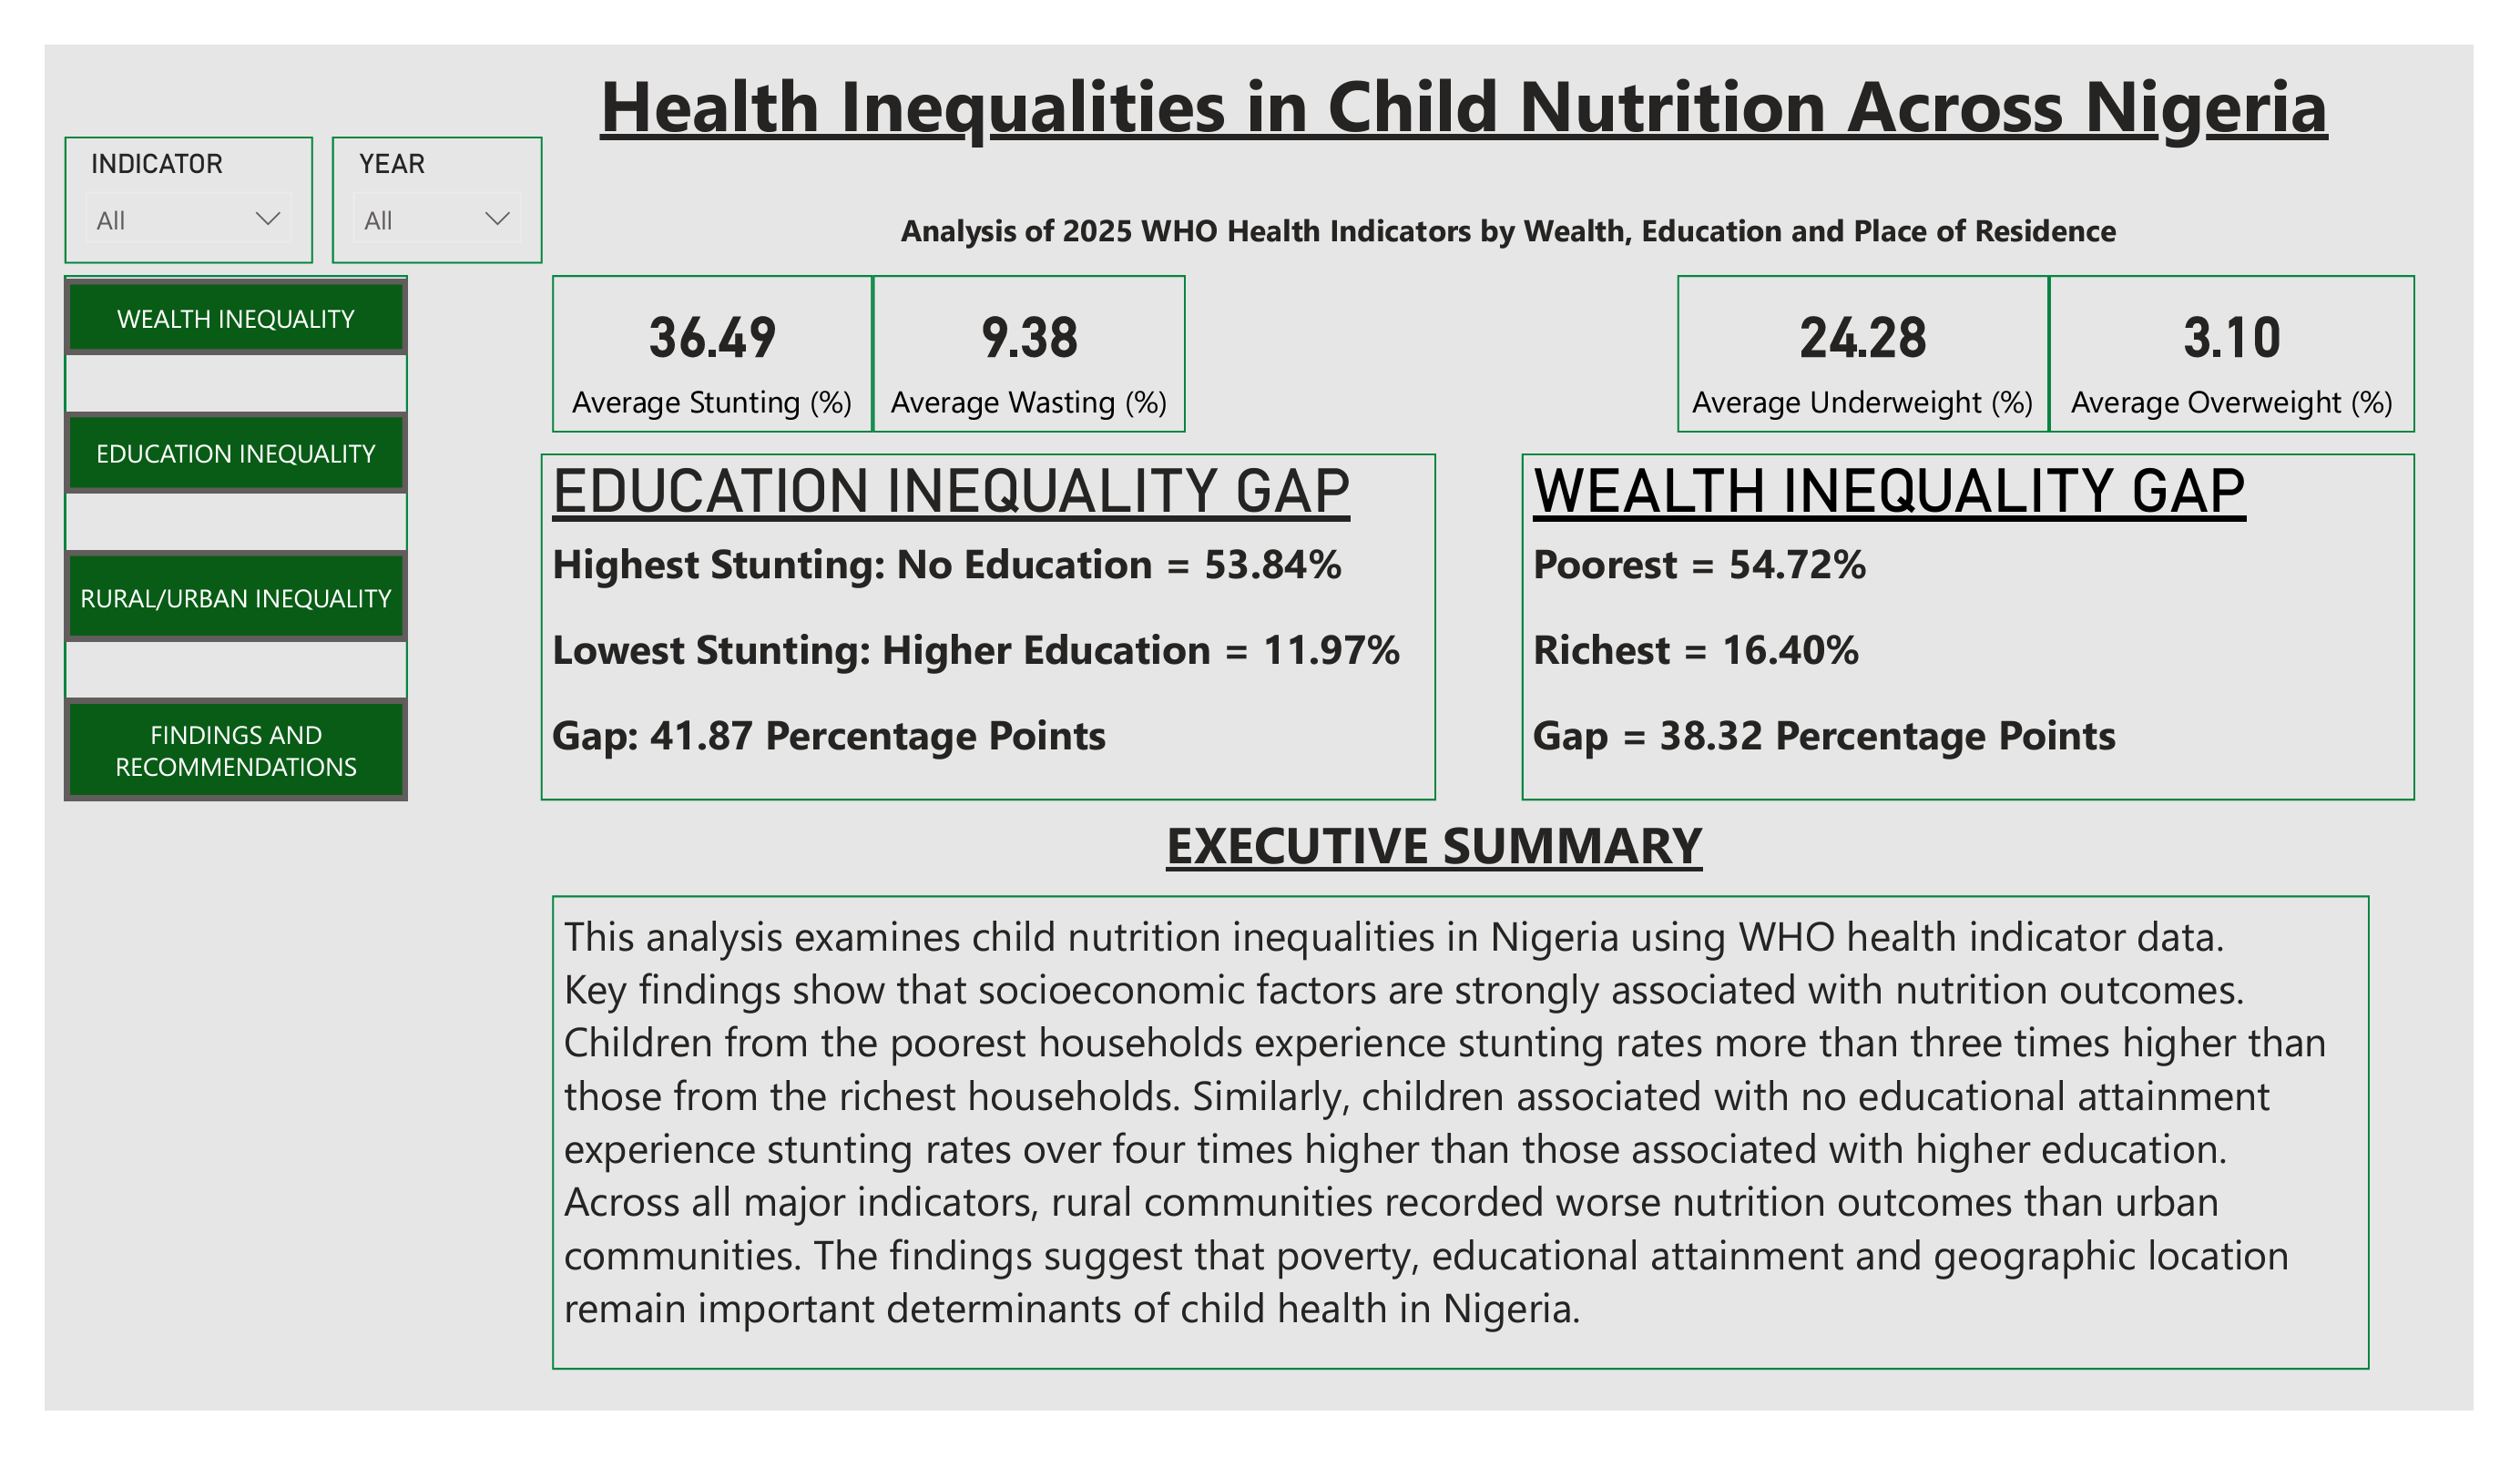

The page's visual inventory and layout, read from the dashboard file:
{"tool":"powerbi","page":{"name":"EXECUTIVE SUMMARY","canvas":[1280,720],"ordinal":0},"visuals":[{"type":"textbox","box":[316.6,81,908,34.4],"z":0},{"type":"card","fields":{"Values":["Measures_Table.Avg Stunting"]},"box":[267.5,121.5,168.1,82.2],"z":1000},{"type":"card","fields":{"Values":["Measures_Table.Avg Overweight"]},"box":[1056.4,121.5,192.6,82.2],"z":2000},{"type":"card","fields":{"Values":["Measures_Table.Avg Underweight"]},"box":[860.1,121.5,196.3,82.2],"z":3000},{"type":"card","fields":{"Values":["Measures_Table.Avg Wasting"]},"box":[435.6,121.5,165.6,82.2],"z":4000},{"type":"textbox","title":"EDUCATION INEQUALITY GAP","box":[261.4,214.7,471.2,182.8],"z":5000},{"type":"textbox","title":"WEALTH INEQUALITY GAP","box":[777.9,214.7,471.2,182.8],"z":6000},{"type":"textbox","box":[267.4,448.2,958,249.8],"z":7000},{"type":"textbox","box":[566.1,397.3,331.6,50.8],"z":8000},{"type":"shape","box":[9.8,121.5,181.6,276.1],"z":9000},{"type":"slicer","fields":{"Values":["nutritional_inequality.YEAR"]},"box":[151.3,48.5,110.2,66.1],"z":10000},{"type":"slicer","fields":{"Values":["nutritional_inequality.INDICATOR"]},"box":[10.3,48.5,130.8,66.1],"z":11000},{"type":"actionButton","box":[9.8,122.7,181.6,40.5],"z":12000},{"type":"actionButton","box":[9.8,193,181.6,42.9],"z":13000},{"type":"actionButton","box":[9.8,265.9,181.6,47.9],"z":14000},{"type":"actionButton","box":[9.8,343.6,181.6,54],"z":15000},{"type":"textbox","box":[287.1,0,938.7,81],"z":15001}]}

Visuals, with their boxes on the page's 1280x720 design canvas (x1, y1, x2, y2). These are canvas units, not pixel positions in the 2520x1457 screenshot, which may show the page scaled, cropped or inside an application window:
textbox: BBox(317, 81, 1225, 115)
card - Measures_Table.Avg Stunting: BBox(268, 122, 436, 204)
card - Measures_Table.Avg Overweight: BBox(1056, 122, 1249, 204)
card - Measures_Table.Avg Underweight: BBox(860, 122, 1056, 204)
card - Measures_Table.Avg Wasting: BBox(436, 122, 601, 204)
"EDUCATION INEQUALITY GAP" textbox: BBox(261, 215, 733, 398)
"WEALTH INEQUALITY GAP" textbox: BBox(778, 215, 1249, 398)
textbox: BBox(267, 448, 1225, 698)
textbox: BBox(566, 397, 898, 448)
shape: BBox(10, 122, 191, 398)
slicer - nutritional_inequality.YEAR: BBox(151, 48, 262, 115)
slicer - nutritional_inequality.INDICATOR: BBox(10, 48, 141, 115)
actionButton: BBox(10, 123, 191, 163)
actionButton: BBox(10, 193, 191, 236)
actionButton: BBox(10, 266, 191, 314)
actionButton: BBox(10, 344, 191, 398)
textbox: BBox(287, 0, 1226, 81)
